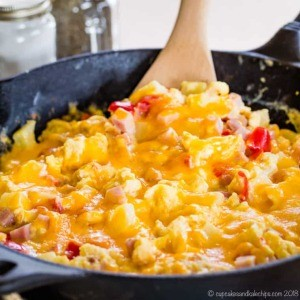egg_brain food: (57, 124, 250, 243)
